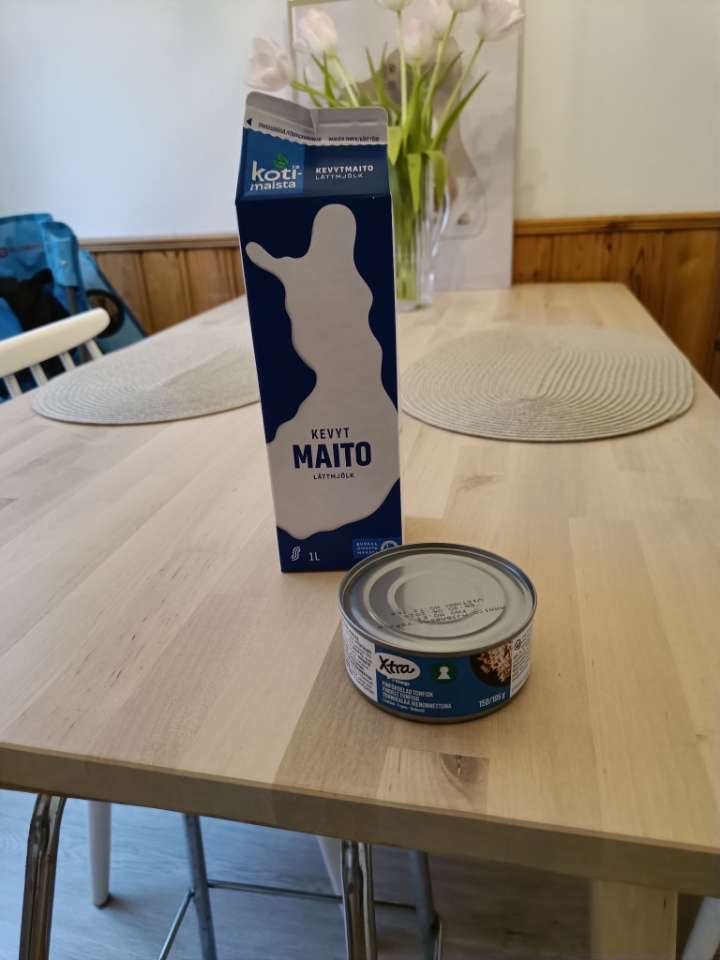Dryckeskartong: (202, 83, 418, 578)
Konservburk: (319, 538, 544, 723)
